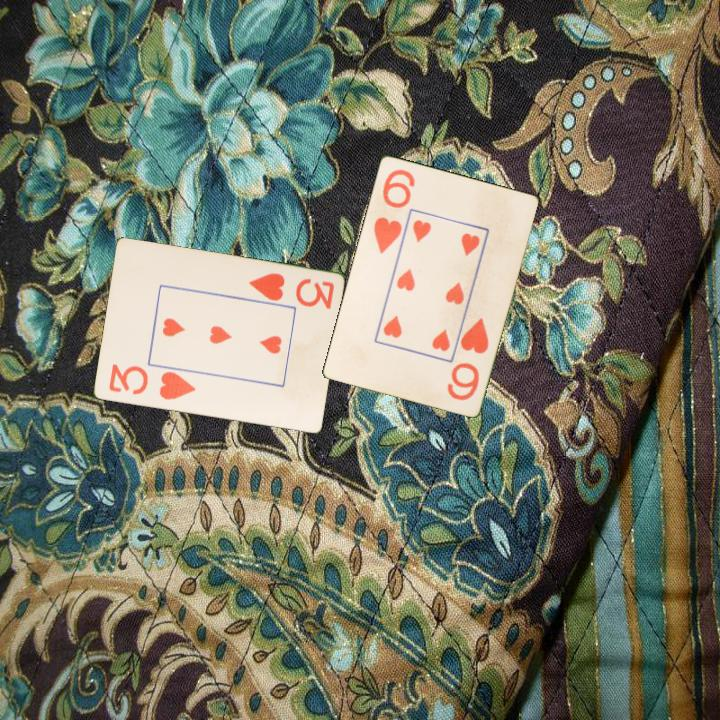3h: (245, 269, 337, 312), (105, 361, 198, 403)
6h: (443, 314, 492, 403), (370, 165, 417, 257)
